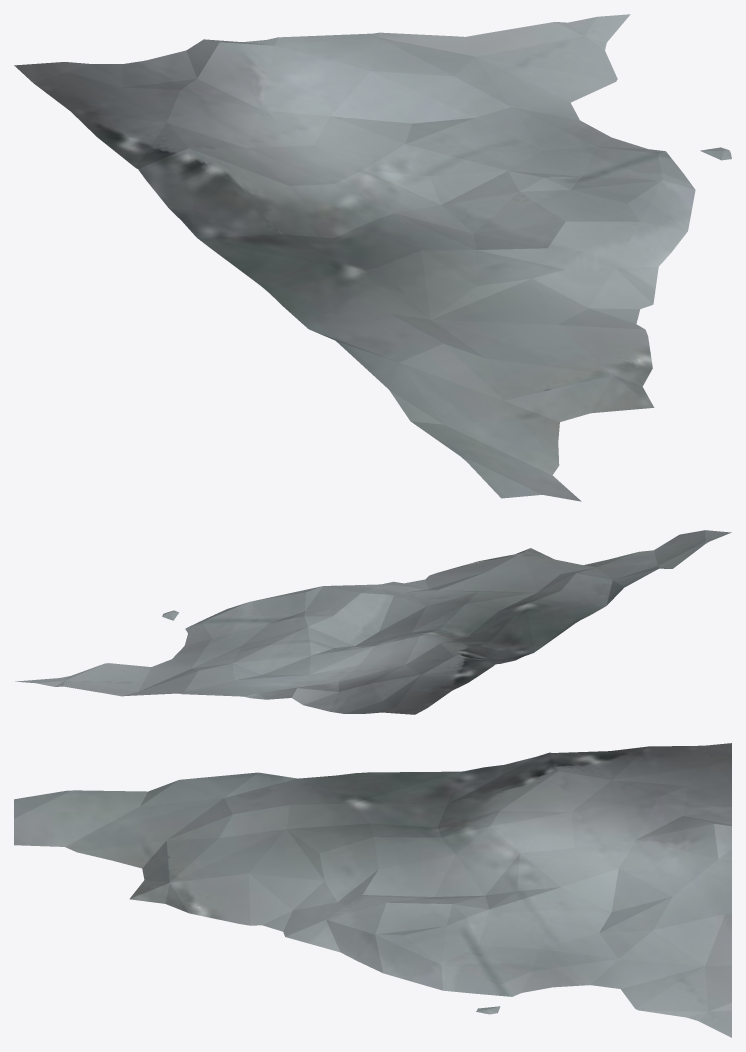
The picture shows the model from 3 angles, top to bottom: view 1: azimuth 30°, elevation 25°; view 2: azimuth 150°, elevation 25°; view 3: azimuth 270°, elevation 25°; orthographic projection. The views are drawn at different scales.
Bounding box in the file's own units: 0.6118 × 0.0941 × 0.8374.
1 material, 1 textured.
